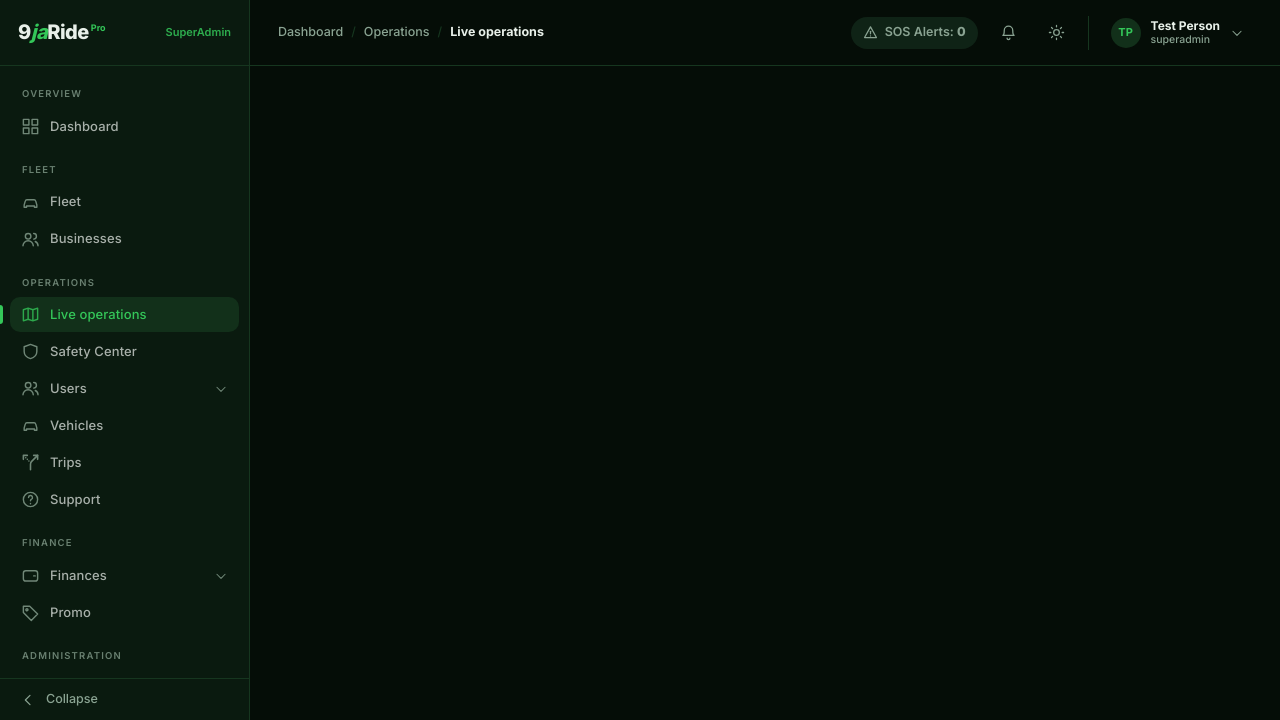
Test: sidebar by role › asks before signing out
The image size is (1280, 720).
Expected: the text "Test Person" is shown, [1151, 18, 1220, 33]
Click the button "TP Test Person superadmin": (1177, 32) [1103, 14, 1252, 52]
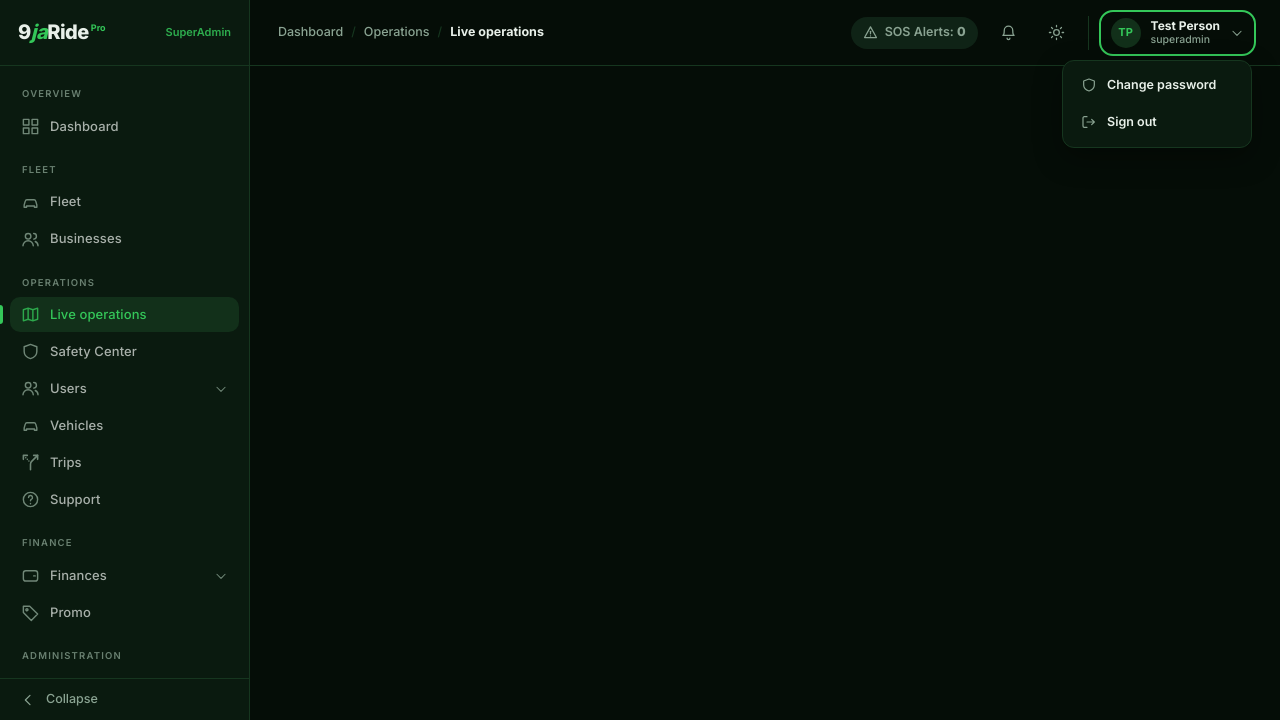
Click the menu item "Sign out": (1157, 122) [1069, 104, 1245, 141]
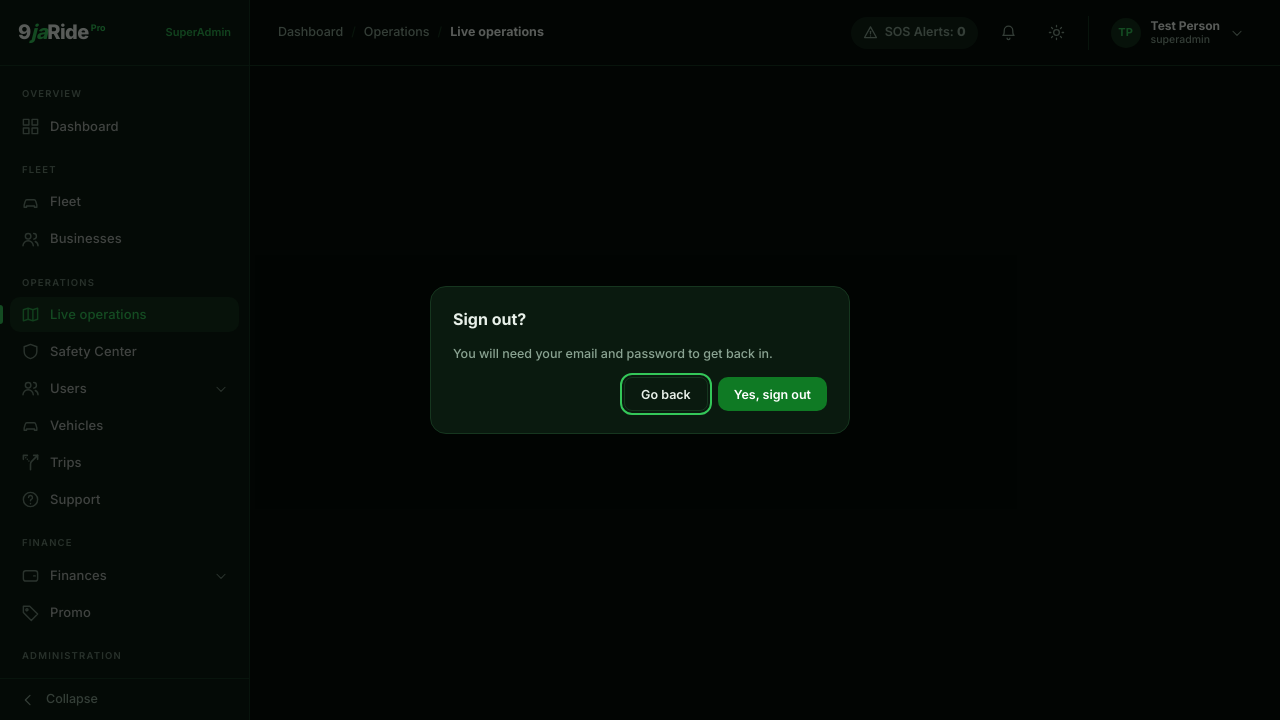
Result: the heading "Sign out?" is shown at [453, 309, 526, 329]
Result: the button "Yes, sign out" is shown at [718, 377, 827, 411]
